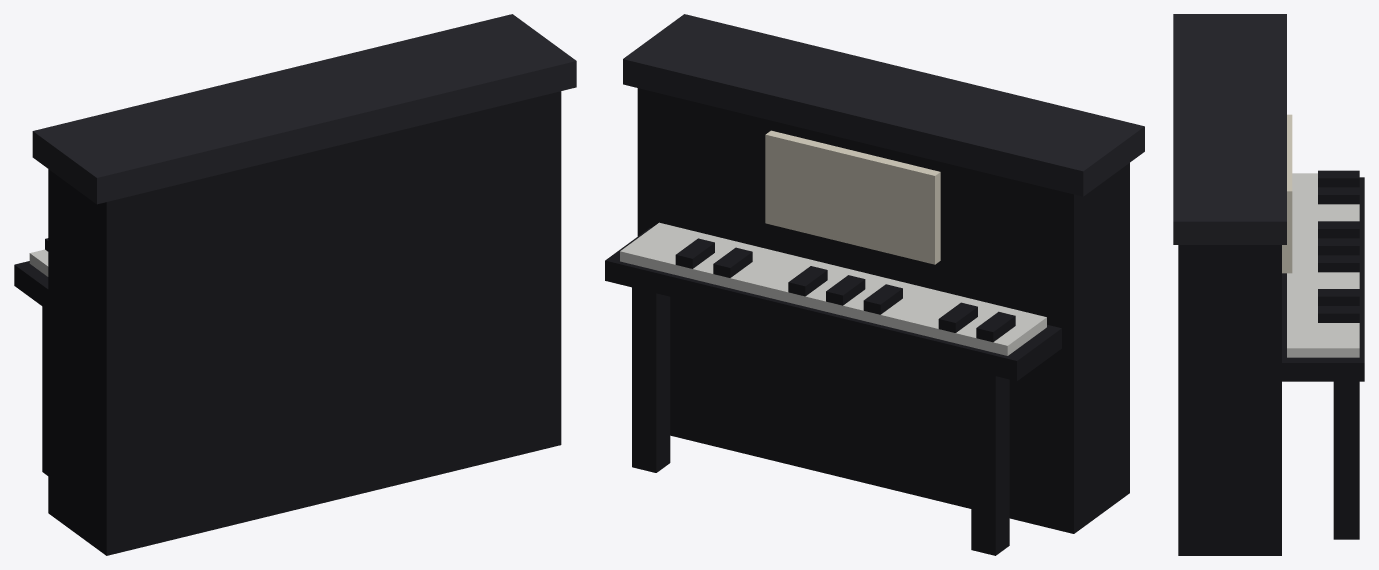
The model's file is th-piano.glb.
The picture shows the model from 3 angles, left to right: view 1: azimuth 30°, elevation 25°; view 2: azimuth 150°, elevation 25°; view 3: azimuth 270°, elevation 25°; orthographic projection. The views are drawn at different scales.
Visible parts, largest first — view 1: box-prop; view 2: box-prop; view 3: box-prop.
Part boxes in pixels (x1,y1,x2,y2): box-prop: (14,14,576,555); box-prop: (605,14,1144,555); box-prop: (1173,14,1364,555).
Bounding box in the file's own units: 1.9 × 1.45 × 0.74.
